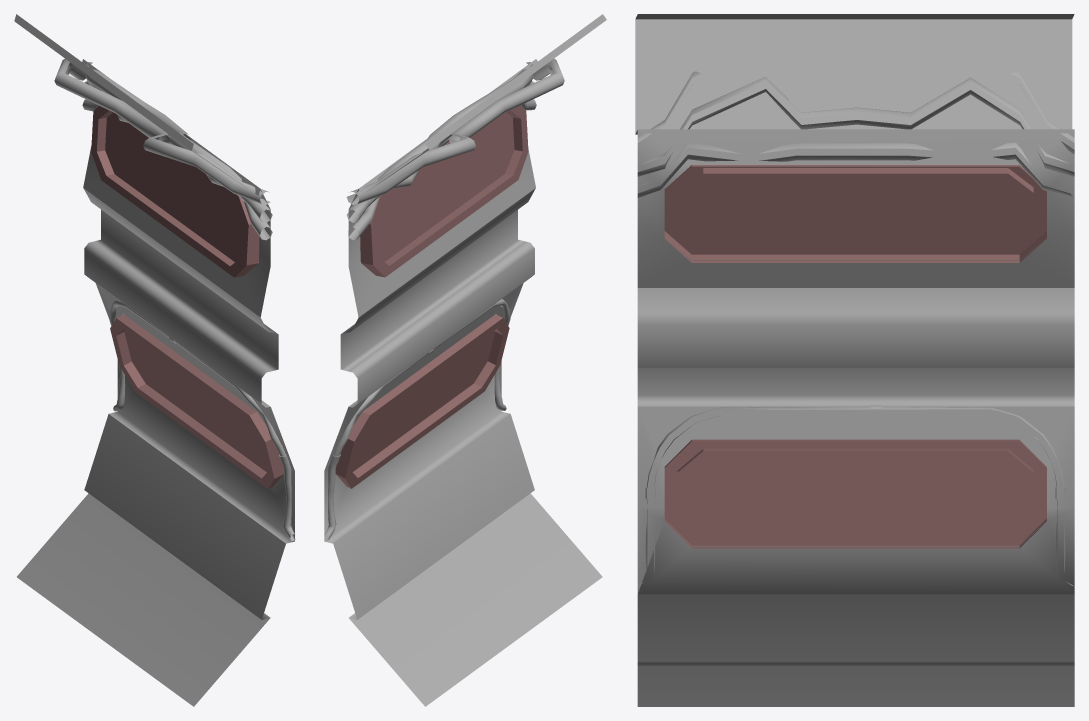
File: Wall_5.fbx
3 renders of one model, left to right at view 1: azimuth 30°, elevation 25°; view 2: azimuth 150°, elevation 25°; view 3: azimuth 270°, elevation 25°, orthographic. The views are drawn at different scales.
Visible parts, largest first — view 1: polySurface10; view 2: polySurface10; view 3: polySurface10.
Boxes of the visible parts, <box> form: polySurface10: <box>14,14,295,706</box>; polySurface10: <box>324,14,606,706</box>; polySurface10: <box>635,14,1074,706</box>.
Size of the model in its own units: 1.48 by 7 by 4.02.
